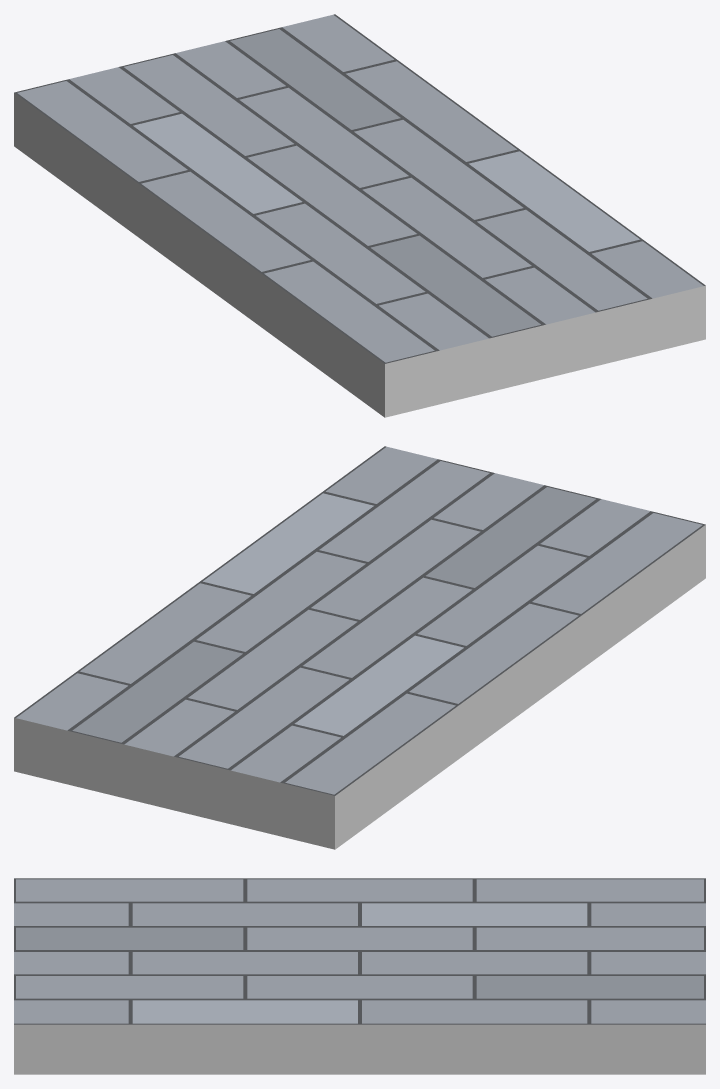
Rendered from Floor9_02.fbx.
3 renders of one model, top to bottom at view 1: azimuth 30°, elevation 25°; view 2: azimuth 150°, elevation 25°; view 3: azimuth 270°, elevation 25°, orthographic. The views are drawn at different scales.
Visible parts, largest first — view 1: Floor9_02; view 2: Floor9_02; view 3: Floor9_02.
Part boxes in pixels (bbox=[...]): Floor9_02: bbox=[14, 14, 705, 417]; Floor9_02: bbox=[14, 446, 705, 849]; Floor9_02: bbox=[14, 878, 705, 1074].
Size of the model in its own units: 125 by 20 by 250.
